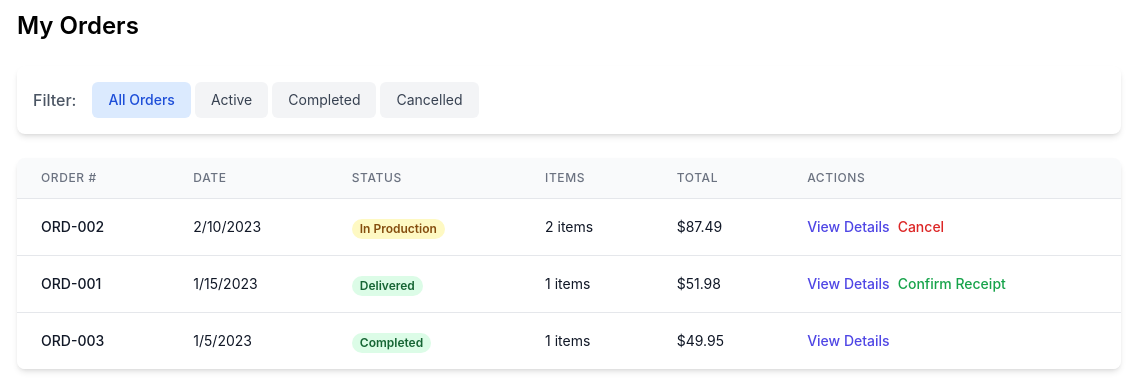
Test: OrdersList Component › confirms delivery when "Confirm Receipt" button is clicked
This screenshot has width=1139, height=390.
expect the text "ORD-001" is shown: met, box left=41, top=275, right=101, bottom=292
Step 1. Click the button "Confirm Receipt" → click(952, 284), box left=898, top=274, right=1006, bottom=294
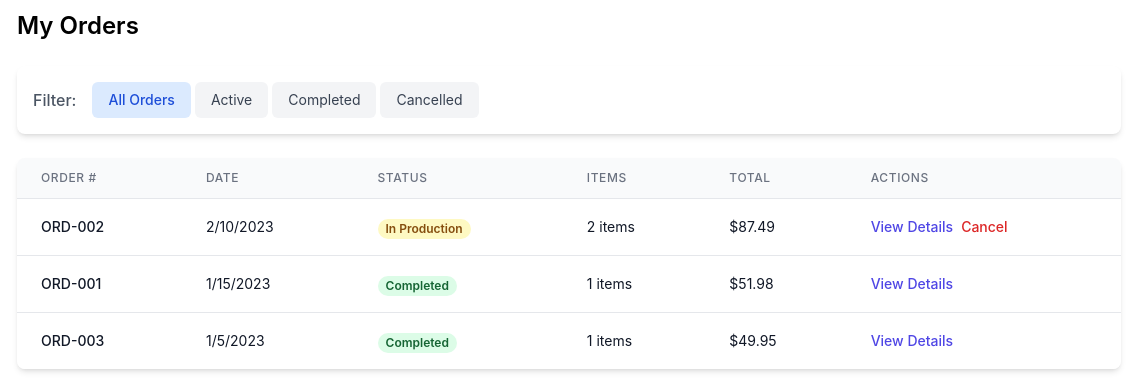
expect the row "ORD-001 1/15/2023 Completed 1 items $51.98 View Details" is shown: met, box left=17, top=256, right=1121, bottom=312
